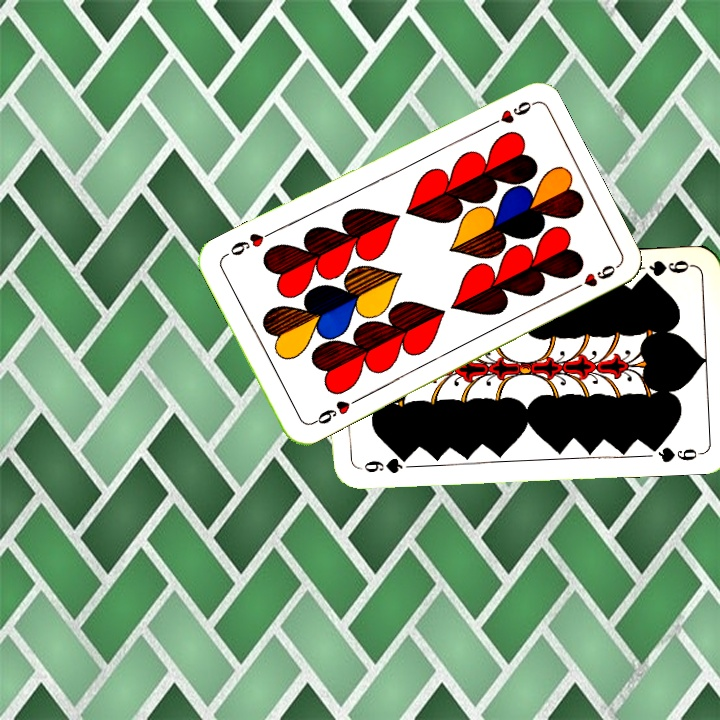G9: (637, 256, 695, 282), (355, 452, 414, 476)
H9: (480, 96, 535, 132), (306, 394, 361, 428)
